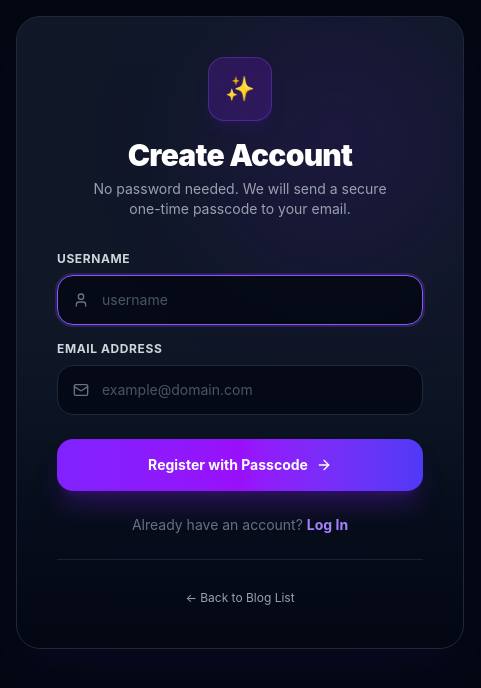
Test case: Register Page - Passwordless Account Creation Flow › should transition to code verification and show 10-minute validity notice
Type "ahmet_dev" into the field with placeholder "username".
click(240, 300); type("ahmet_dev")  # box top-left (57, 275), bottom-right (423, 325)
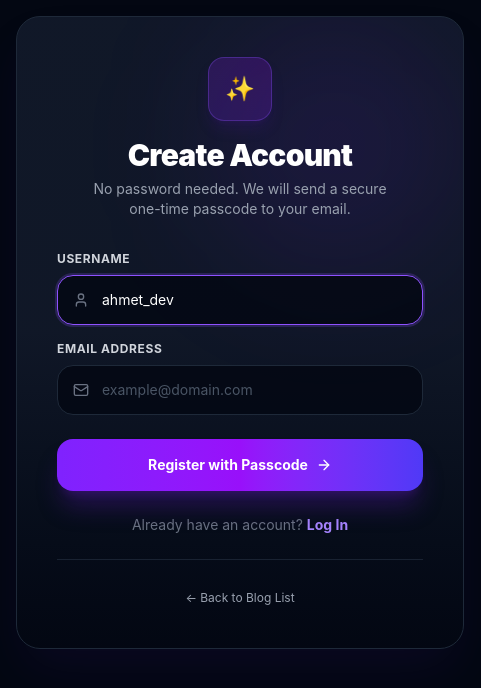
Type "ahmet@dev.com" into the field with placeholder "example@domain.com".
click(240, 390); type("ahmet@dev.com")  # box top-left (57, 365), bottom-right (423, 415)
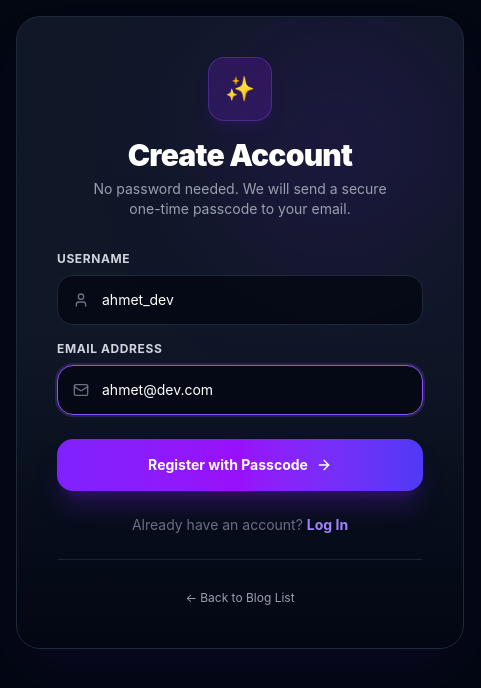
Click the button "Register with Passcode".
click(240, 465)  # box top-left (57, 439), bottom-right (423, 491)
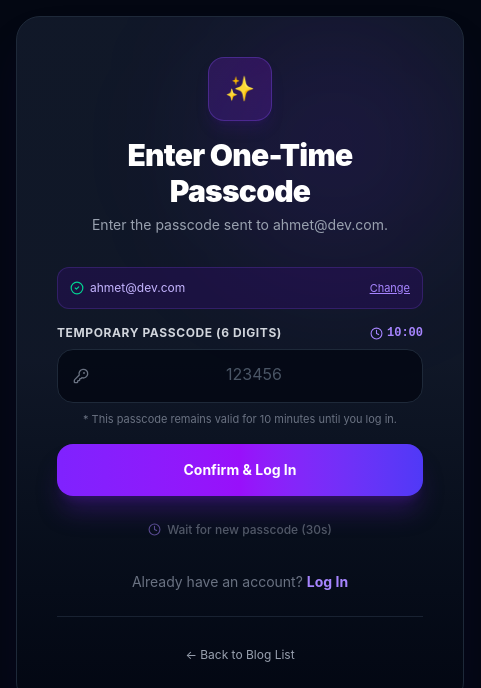
Check: the field with placeholder "123456" is shown, box top-left (57, 349), bottom-right (423, 403)
Check: the button "Confirm & Log In" is shown, box top-left (57, 444), bottom-right (423, 496)
Check: the button "Wait for new passcode (30s)" is disabled, box top-left (57, 512), bottom-right (423, 548)
